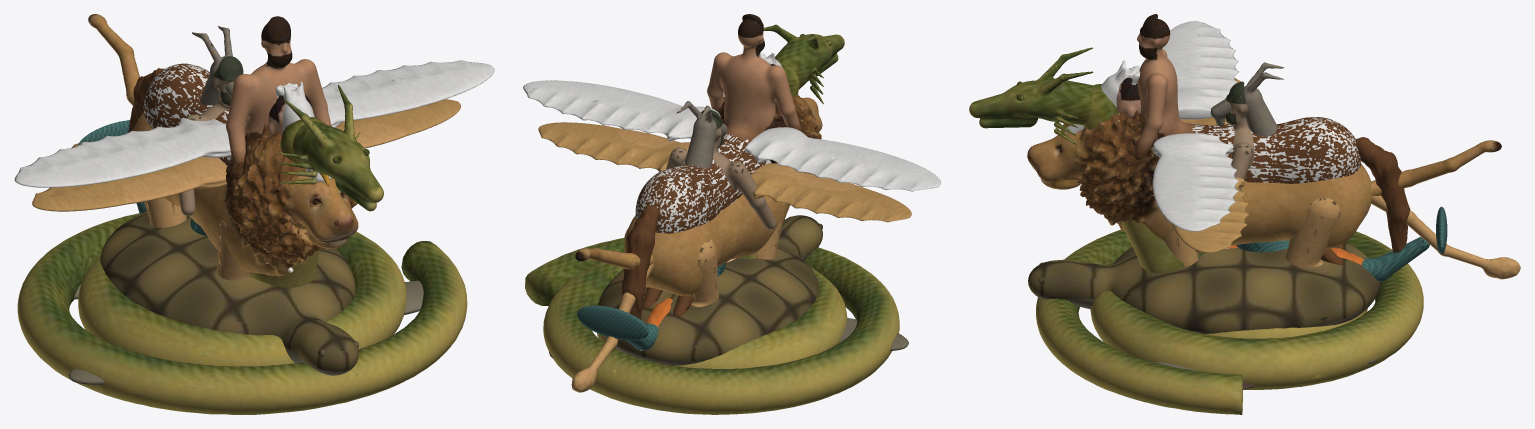
File: criaturas2.glb
3 views of the same model, side by side, from view 1: azimuth 30°, elevation 25°; view 2: azimuth 150°, elevation 25°; view 3: azimuth 270°, elevation 25° (orthographic). The views are drawn at different scales.
Parts seen in each view (by area): view 1: CR_serp_cuerpo, CR_tortuga_cuerpo, CR_quimera_cuerpo, CR_centauro_cuerpo, CR_pegaso_aI, CR_pegaso_aD, CR_serp_cabeza, CR_esfinge_aI, CR_grifo_aI, CR_pegaso_cuerpo, CR_triton_cuerpo, CR_grifo_aD (+6 smaller); view 2: CR_serp_cuerpo, CR_tortuga_cuerpo, CR_centauro_cuerpo, CR_quimera_cuerpo, CR_pegaso_aI, CR_pegaso_aD, CR_triton_cuerpo, CR_grifo_aI, CR_grifo_aD, CR_pegaso_cuerpo, CR_serp_cabeza, CR_centauro_cola (+7 smaller); view 3: CR_serp_cuerpo, CR_tortuga_cuerpo, CR_quimera_cuerpo, CR_centauro_cuerpo, CR_pegaso_aD, CR_serp_cabeza, CR_pegaso_aI, CR_pegaso_cuerpo, CR_triton_cuerpo, CR_centauro_cola, CR_esfinge_pTD, CR_grifo_aD (+4 smaller).
Part boxes in pixels (left/top/right/bottom): CR_serp_cuerpo: left=17, top=117, right=467, bottom=414; CR_tortuga_cuerpo: left=68, top=211, right=423, bottom=384; CR_quimera_cuerpo: left=133, top=26, right=358, bottom=276; CR_centauro_cuerpo: left=143, top=16, right=331, bottom=165; CR_pegaso_aI: left=14, top=117, right=231, bottom=187; CR_pegaso_aD: left=322, top=60, right=494, bottom=127; CR_serp_cabeza: left=278, top=85, right=383, bottom=211; CR_esfinge_aI: left=122, top=157, right=227, bottom=204; CR_grifo_aI: left=32, top=156, right=210, bottom=211; CR_pegaso_cuerpo: left=143, top=64, right=331, bottom=183; CR_triton_cuerpo: left=77, top=56, right=243, bottom=236; CR_grifo_aD: left=336, top=99, right=460, bottom=135; CR_serp_cuerpo: left=525, top=61, right=899, bottom=414; CR_tortuga_cuerpo: left=549, top=215, right=908, bottom=365; CR_centauro_cuerpo: left=635, top=14, right=801, bottom=233; CR_quimera_cuerpo: left=624, top=94, right=822, bottom=296; CR_pegaso_aI: left=745, top=127, right=940, bottom=191; CR_pegaso_aD: left=523, top=80, right=720, bottom=141; CR_triton_cuerpo: left=577, top=110, right=776, bottom=350; CR_grifo_aI: left=750, top=171, right=911, bottom=222; CR_grifo_aD: left=538, top=122, right=675, bottom=171; CR_pegaso_cuerpo: left=635, top=52, right=798, bottom=233; CR_serp_cabeza: left=763, top=24, right=844, bottom=103; CR_centauro_cola: left=621, top=205, right=660, bottom=319; CR_serp_cuerpo: left=1036, top=84, right=1423, bottom=414; CR_tortuga_cuerpo: left=1028, top=242, right=1379, bottom=371; CR_quimera_cuerpo: left=1027, top=62, right=1371, bottom=253; CR_centauro_cuerpo: left=1135, top=14, right=1360, bottom=183; CR_pegaso_aD: left=1152, top=133, right=1238, bottom=231; CR_serp_cabeza: left=969, top=47, right=1093, bottom=145; CR_pegaso_aI: left=1162, top=21, right=1238, bottom=119; CR_pegaso_cuerpo: left=1065, top=60, right=1360, bottom=183; CR_triton_cuerpo: left=1225, top=81, right=1447, bottom=281; CR_centauro_cola: left=1355, top=137, right=1410, bottom=253; CR_esfinge_pTD: left=1285, top=198, right=1340, bottom=267; CR_grifo_aD: left=1173, top=177, right=1249, bottom=253.
Size of the model in its own units: 3.46 by 2.81 by 3.84.
11 materials, 11 textured.
